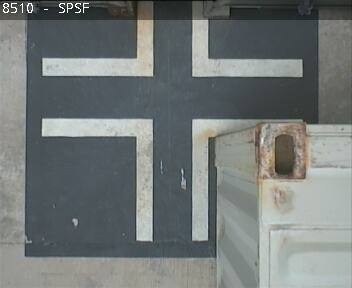groundmarker_1: (41, 117, 303, 240), (42, 1, 304, 77)
